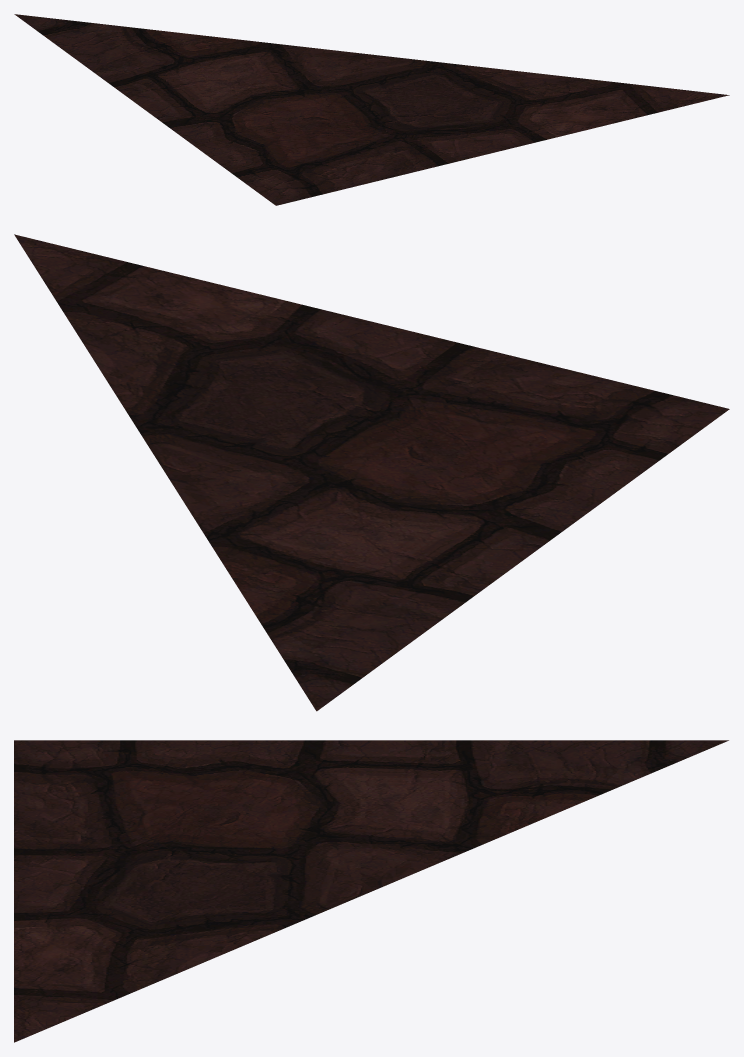
Rendered from lava_floor_diagonal_02_noshadow.fbx.
3 views of the same model, one above another, from view 1: azimuth 30°, elevation 25°; view 2: azimuth 150°, elevation 25°; view 3: azimuth 270°, elevation 25° (orthographic). The views are drawn at different scales.
Visible parts, largest first — view 1: lava_tileset/lava_floor01; view 2: lava_tileset/lava_floor01; view 3: lava_tileset/lava_floor01.
Boxes of the visible parts, box(x1,y1,x2,y2) form: lava_tileset/lava_floor01: box(14, 14, 729, 205); lava_tileset/lava_floor01: box(14, 234, 729, 711); lava_tileset/lava_floor01: box(14, 740, 728, 1042).
Bounding box in the file's own units: 4 × 5.75e-11 × 4.
